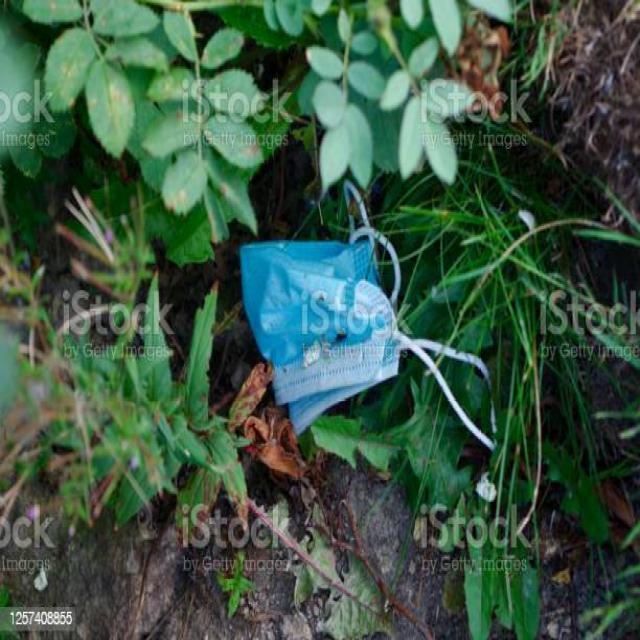non-organic waste: (236, 176, 500, 457)
